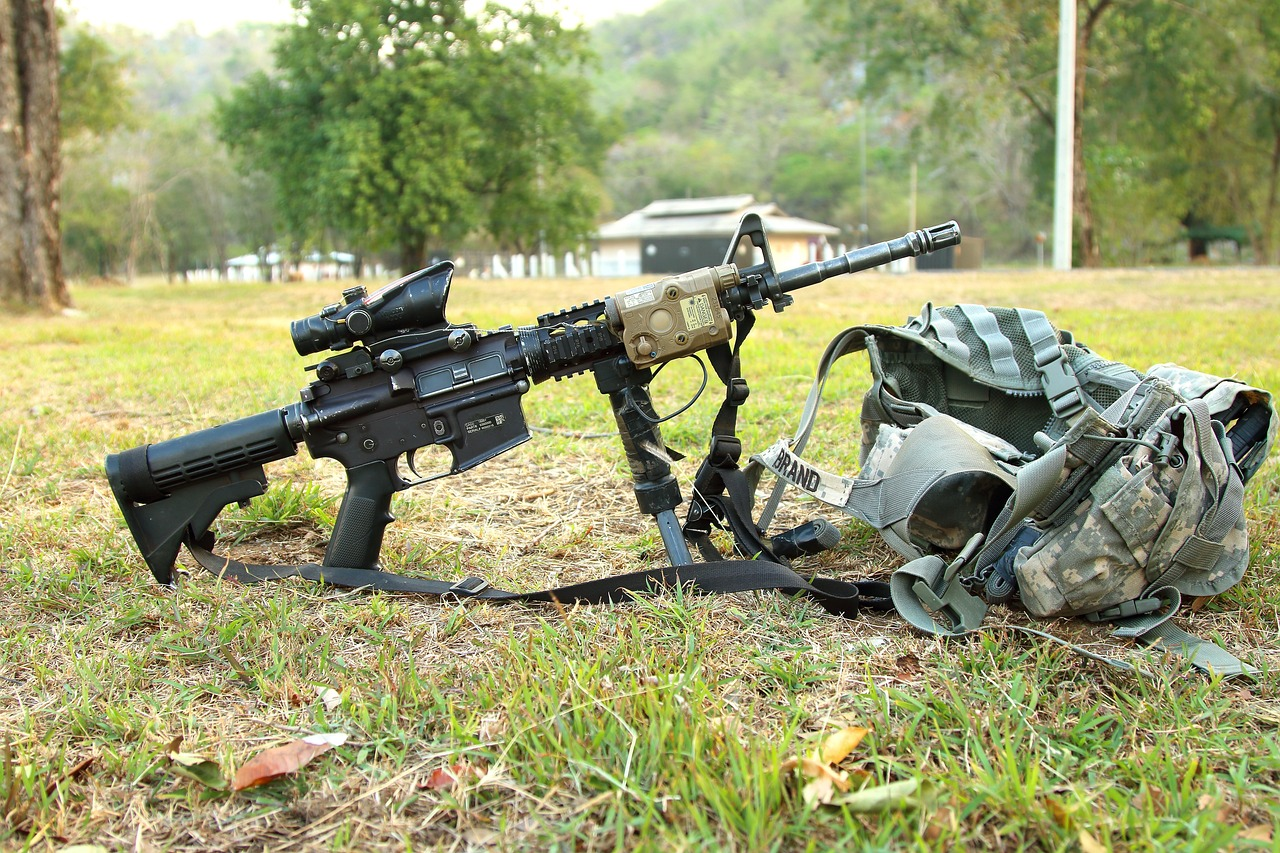gun: (98, 207, 966, 590)
